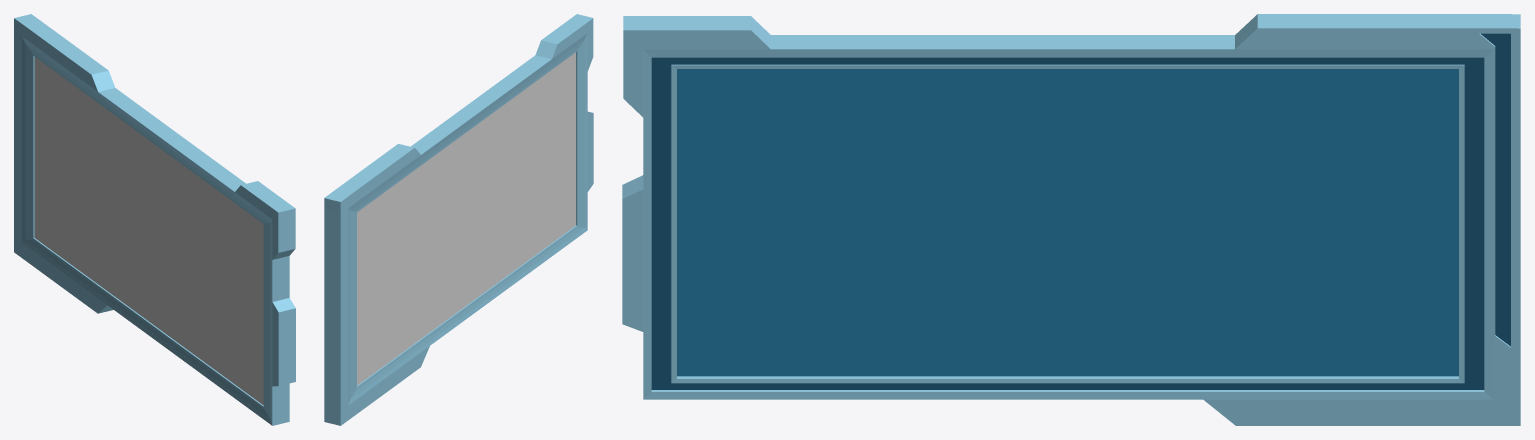
Rendered from Disketa-mica.glb.
The picture shows the model from 3 angles, left to right: view 1: azimuth 30°, elevation 25°; view 2: azimuth 150°, elevation 25°; view 3: azimuth 270°, elevation 25°; orthographic projection. The views are drawn at different scales.
Visible parts, largest first — view 1: spate, rama exterioara; view 2: spate, rama exterioara; view 3: view, rama exterioara, rama interioara, rama dreapta.
Part boxes in pixels (x1,y1,x2,y2): spate: [34, 57, 263, 404]; rama exterioara: [14, 14, 295, 425]; spate: [357, 52, 575, 385]; rama exterioara: [324, 14, 593, 425]; view: [677, 69, 1458, 376]; rama exterioara: [622, 14, 1520, 425]; rama interioara: [651, 57, 1484, 389]; rama dreapta: [1481, 33, 1510, 346].
Size of the model in its own units: 0.1833 by 2.38 by 4.87.
